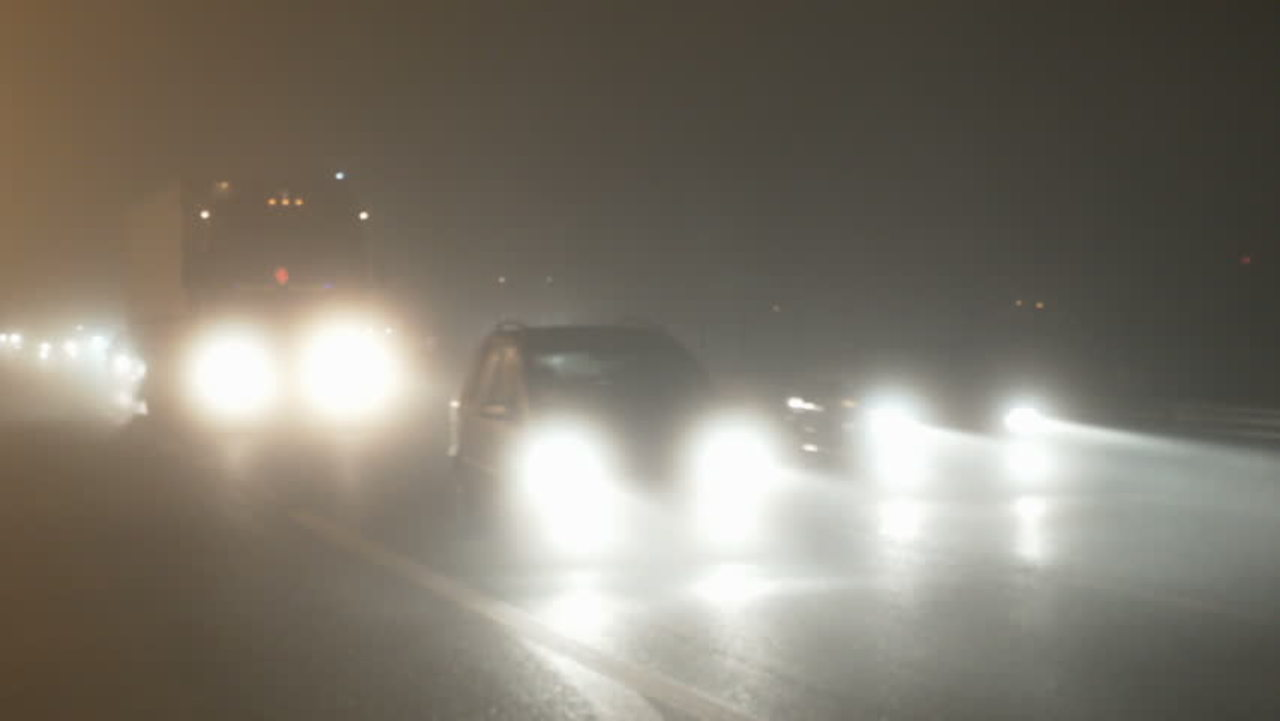car: (446, 319, 767, 550), (785, 337, 1063, 497), (105, 318, 154, 400)
truck: (130, 174, 390, 443)
